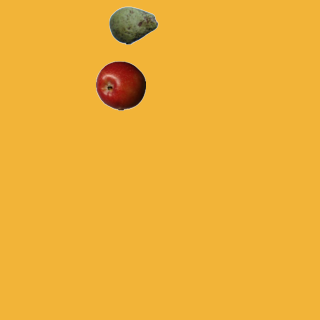Apple Braeburn: (95, 60, 145, 110)
Pear Stone: (108, 0, 158, 50)
